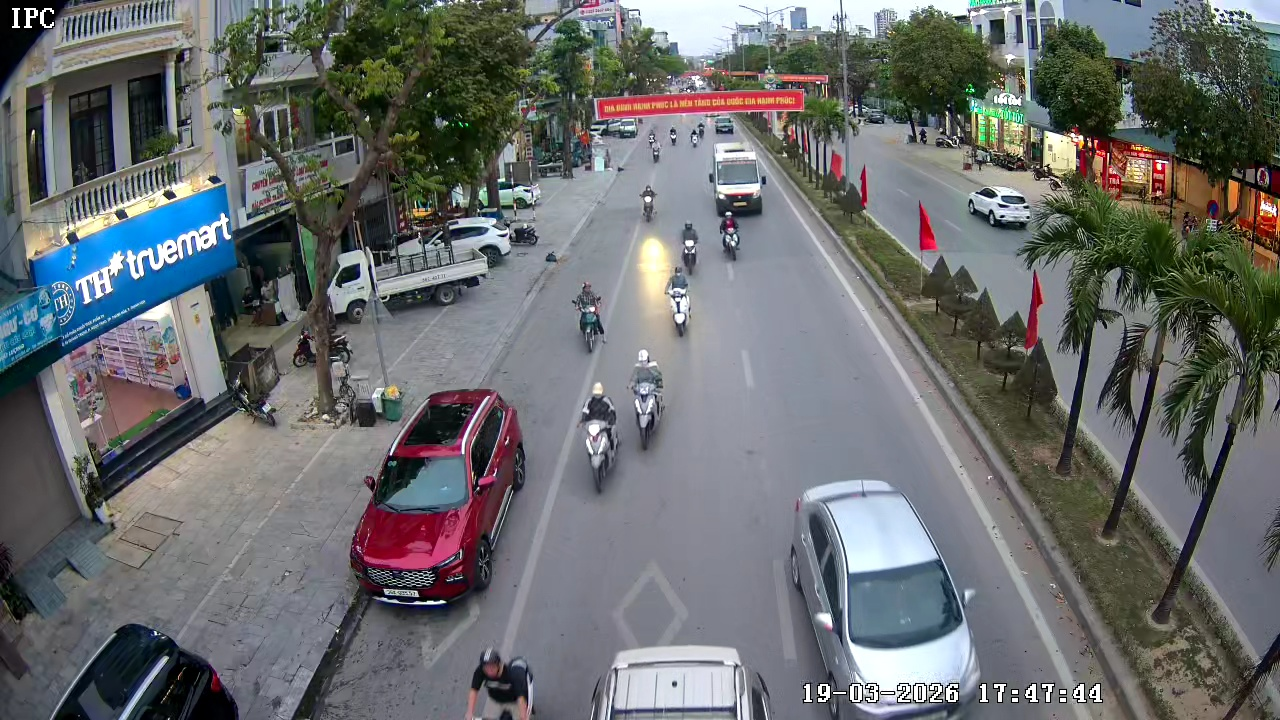car: (784, 478, 988, 719), (347, 388, 529, 604), (967, 185, 1031, 229), (712, 112, 735, 137)
motorbike: (578, 382, 623, 494), (626, 349, 668, 452), (570, 279, 608, 354), (663, 263, 694, 338), (718, 204, 743, 261), (678, 219, 701, 273), (639, 181, 658, 223), (647, 130, 663, 163), (689, 120, 705, 147)
truck: (707, 151, 768, 215)
